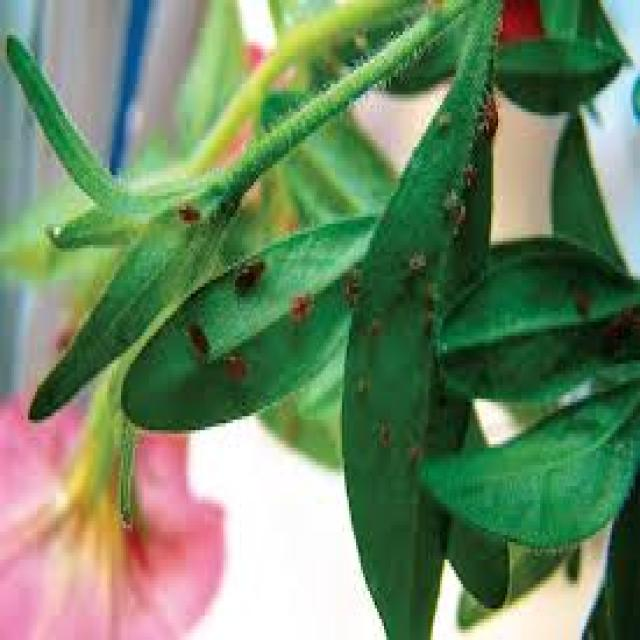aphid: (228, 248, 270, 301), (472, 77, 500, 150), (282, 284, 321, 332), (179, 311, 212, 364), (214, 346, 251, 388), (398, 238, 428, 280), (170, 192, 202, 231), (445, 189, 470, 238), (335, 266, 363, 308), (456, 154, 482, 196), (566, 276, 591, 318), (370, 409, 393, 451), (349, 360, 372, 402), (428, 98, 454, 133), (400, 434, 424, 465), (363, 308, 384, 342)
